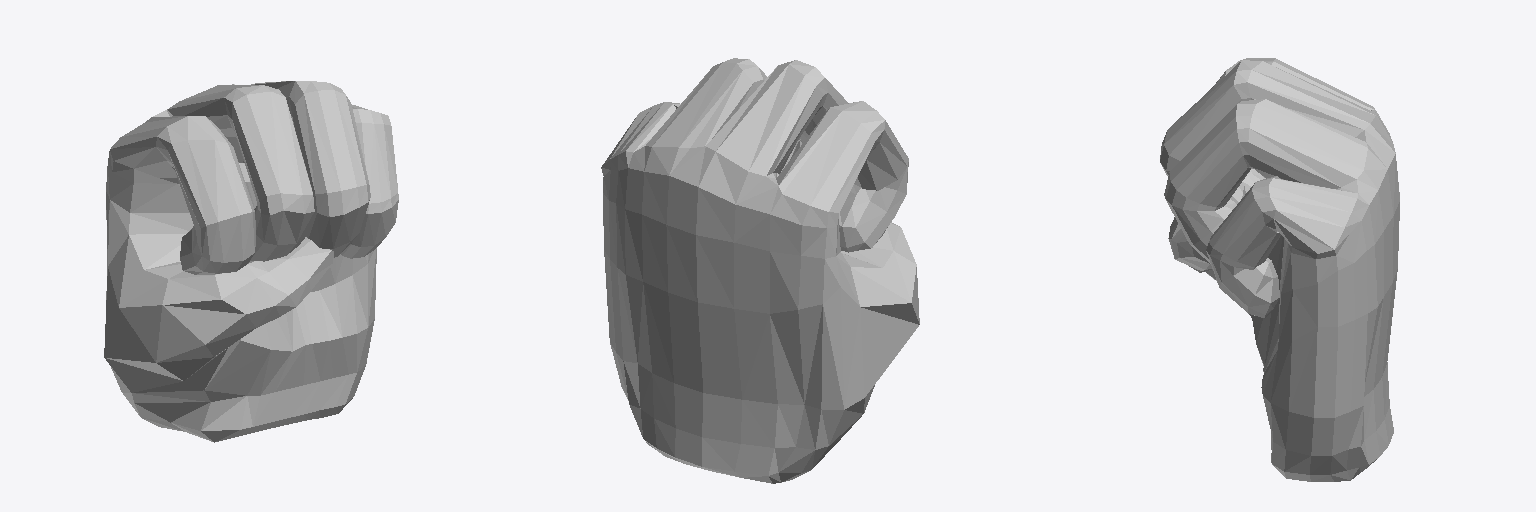
The model's file is mao_s.obj.
The picture shows the model from 3 angles: view 1: azimuth 30°, elevation 25°; view 2: azimuth 150°, elevation 25°; view 3: azimuth 270°, elevation 25°; orthographic projection.
Parts seen in each view (by area): view 1: Box09; view 2: Box09; view 3: Box09.
Boxes of the visible parts, x1=… form: Box09: x1=104, y1=81, x2=398, y2=442; Box09: x1=601, y1=58, x2=919, y2=483; Box09: x1=1160, y1=58, x2=1399, y2=481.
Size of the model in its own units: 132 by 164 by 97.66.